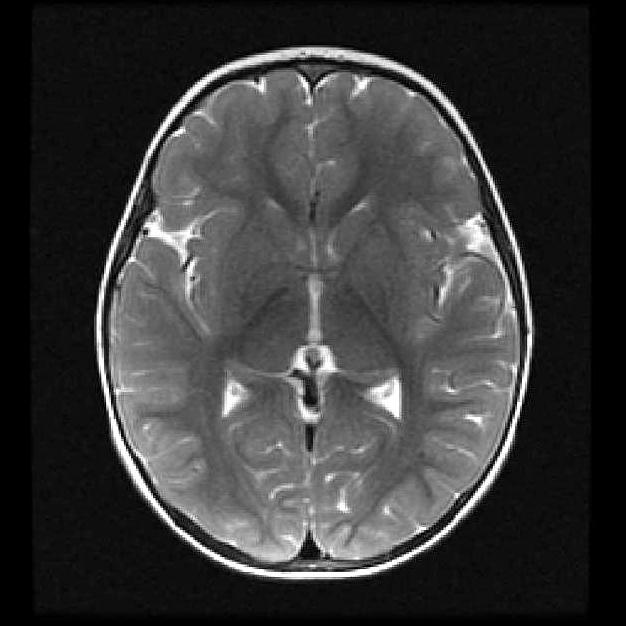Normal_Brain: (57, 1, 576, 609)
